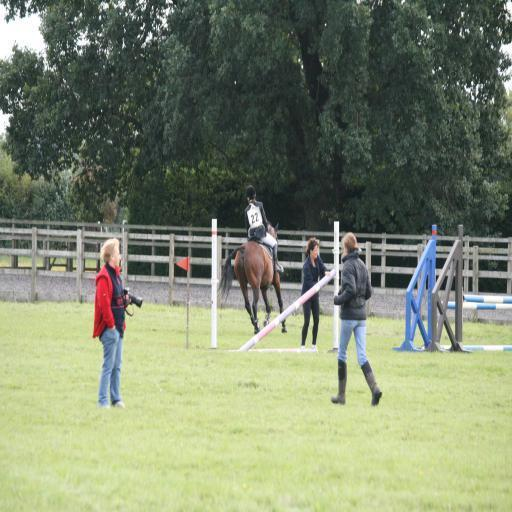horse: (214, 220, 288, 336)
